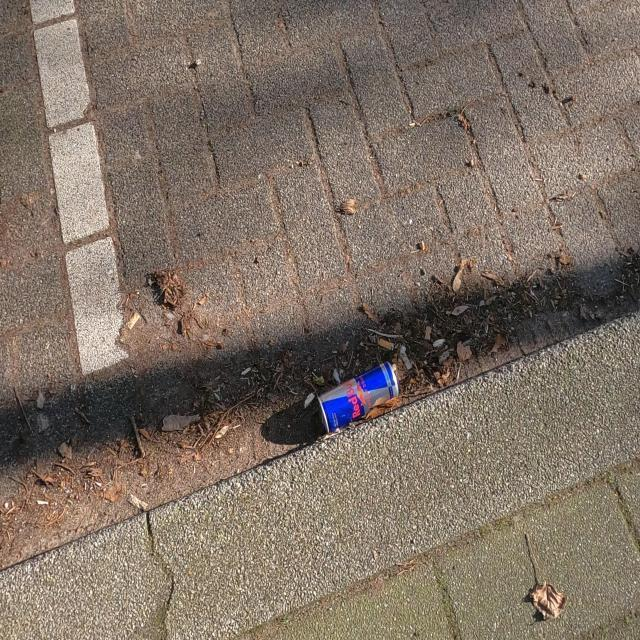Can-Metal: (316, 360, 400, 434)
